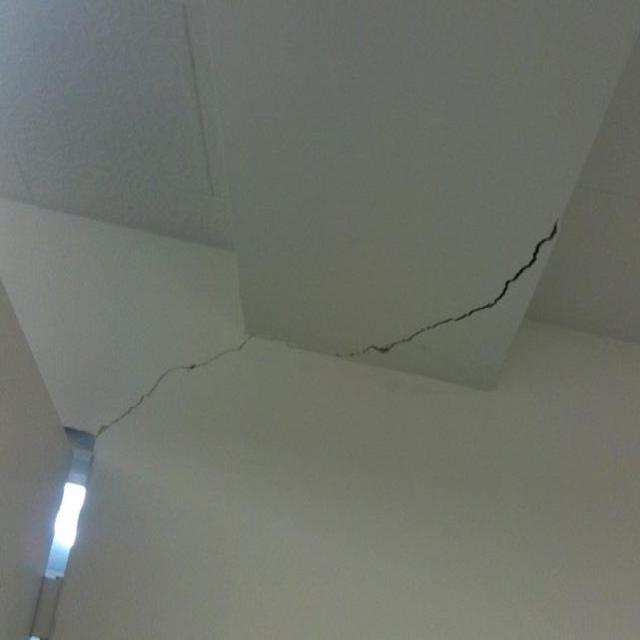crack: (335, 218, 558, 358), (92, 333, 257, 445)
